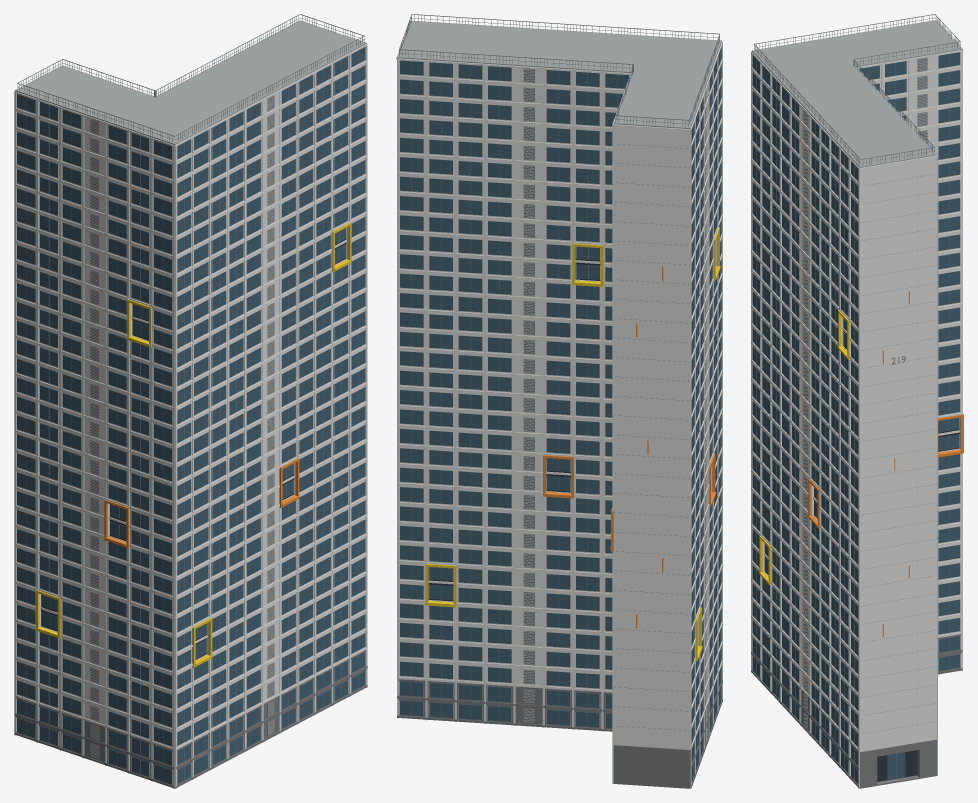
The model's file is bespoke-songpa-helio-city-219.glb.
3 views of the same model, side by side, from view 1: azimuth 30°, elevation 25°; view 2: azimuth 150°, elevation 25°; view 3: azimuth 270°, elevation 25° (orthographic). The views are drawn at different scales.
Visible parts, largest first — view 1: Helio219_editable_Helio219_dark_blue_grey_glazing, Helio219_editable_Helio219_white_slab_frames, Helio219_editable_Helio219_grey_service_grille, Helio219_editable_Helio219_low_roof_deck, Helio219_editable_Helio219_dark_grey_twofloor_base, Helio219_editable_Helio219_blankwall_grey_panels, Helio219_editable_Helio219_yellow_projecting_rectangular_fra, Helio219_editable_Helio219_orange_narrow_accent; view 2: Helio219_editable_Helio219_white_slab_frames, Helio219_editable_Helio219_dark_blue_grey_glazing, Helio219_editable_Helio219_grey_service_grille, Helio219_editable_Helio219_low_roof_deck, Helio219_editable_Helio219_dark_grey_twofloor_base, Helio219_editable_Helio219_blankwall_grey_panels, Helio219_editable_Helio219_yellow_projecting_rectangular_fra, Helio219_editable_Helio219_orange_narrow_accent; view 3: Helio219_editable_Helio219_white_slab_frames, Helio219_editable_Helio219_dark_blue_grey_glazing, Helio219_editable_Helio219_low_roof_deck, Helio219_editable_Helio219_grey_service_grille, Helio219_editable_Helio219_dark_grey_twofloor_base, Helio219_editable_Helio219_blankwall_grey_panels, Helio219_editable_Helio219_deep_shaded_frame_recess, Helio219_editable_Helio219_orange_narrow_accent, Helio219_editable_Helio219_yellow_projecting_rectangular_fra.
Boxes of the visible parts, x1,y1,x2,y2 form: Helio219_editable_Helio219_dark_blue_grey_glazing: [17, 47, 365, 783]; Helio219_editable_Helio219_white_slab_frames: [14, 43, 367, 788]; Helio219_editable_Helio219_grey_service_grille: [17, 14, 364, 780]; Helio219_editable_Helio219_low_roof_deck: [15, 20, 366, 144]; Helio219_editable_Helio219_dark_grey_twofloor_base: [14, 650, 367, 788]; Helio219_editable_Helio219_blankwall_grey_panels: [90, 95, 274, 758]; Helio219_editable_Helio219_yellow_projecting_rectangular_fra: [36, 222, 351, 667]; Helio219_editable_Helio219_orange_narrow_accent: [104, 458, 299, 547]; Helio219_editable_Helio219_white_slab_frames: [396, 22, 722, 788]; Helio219_editable_Helio219_dark_blue_grey_glazing: [400, 47, 721, 781]; Helio219_editable_Helio219_grey_service_grille: [399, 14, 720, 778]; Helio219_editable_Helio219_low_roof_deck: [397, 20, 721, 128]; Helio219_editable_Helio219_dark_grey_twofloor_base: [397, 679, 722, 788]; Helio219_editable_Helio219_blankwall_grey_panels: [524, 69, 707, 742]; Helio219_editable_Helio219_yellow_projecting_rectangular_fra: [425, 227, 720, 661]; Helio219_editable_Helio219_orange_narrow_accent: [543, 267, 715, 628]; Helio219_editable_Helio219_white_slab_frames: [751, 25, 963, 788]; Helio219_editable_Helio219_dark_blue_grey_glazing: [752, 52, 959, 783]; Helio219_editable_Helio219_low_roof_deck: [752, 20, 962, 167]; Helio219_editable_Helio219_grey_service_grille: [754, 14, 960, 779]; Helio219_editable_Helio219_dark_grey_twofloor_base: [751, 634, 962, 788]; Helio219_editable_Helio219_blankwall_grey_panels: [803, 58, 927, 742]; Helio219_editable_Helio219_deep_shaded_frame_recess: [765, 327, 959, 781]; Helio219_editable_Helio219_orange_narrow_accent: [808, 291, 963, 637]; Helio219_editable_Helio219_yellow_projecting_rectangular_fra: [759, 310, 850, 585].
Bounding box in the file's own units: 48.55 × 96.2 × 29.53.
